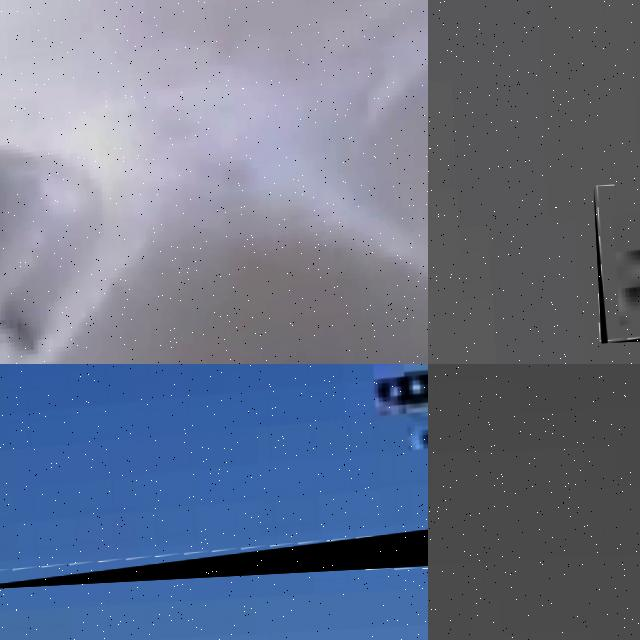drone: (0, 0, 428, 364), (0, 364, 428, 592), (593, 179, 640, 343)
